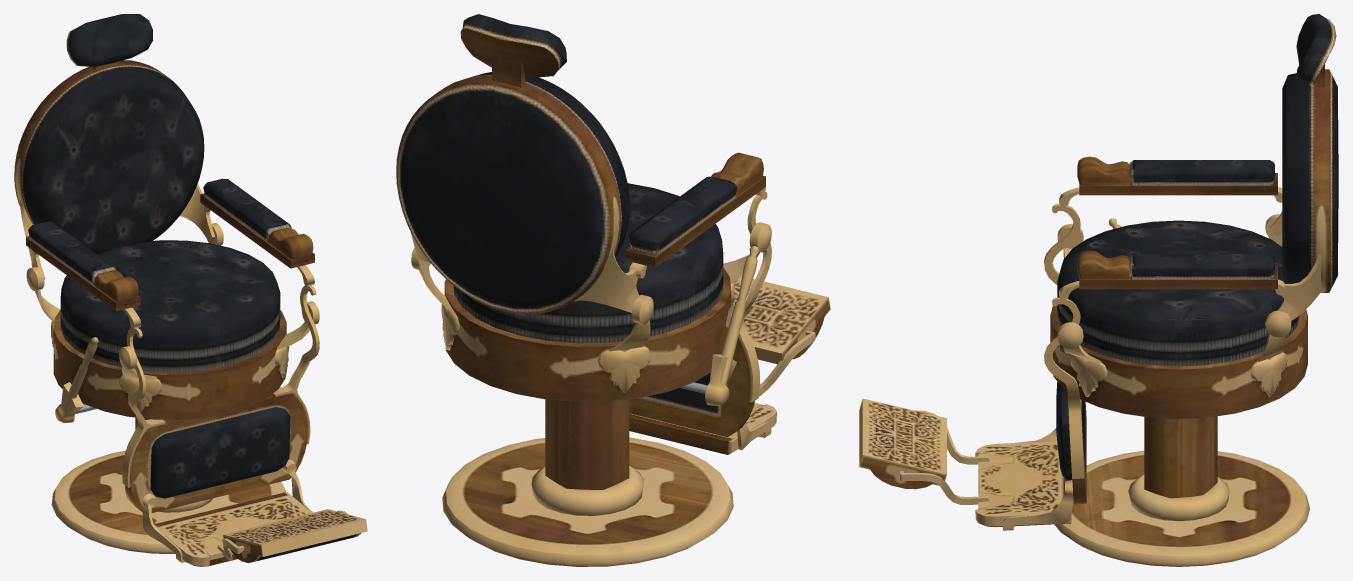
The model's file is barbershopchair_01.glb.
3 views of the same model, side by side, from view 1: azimuth 30°, elevation 25°; view 2: azimuth 150°, elevation 25°; view 3: azimuth 270°, elevation 25° (orthographic). The views are drawn at different scales.
Parts seen in each view (by area): view 1: BarberShopChair_01; view 2: BarberShopChair_01; view 3: BarberShopChair_01.
Part boxes in pixels (x1,y1,x2,y2): BarberShopChair_01: (14,14,367,566); BarberShopChair_01: (396,14,830,566); BarberShopChair_01: (859,14,1338,566).
Bounding box in the file's own units: 0.7566 × 1.49 × 1.33.
Materials: 1 (1 with a texture image).
